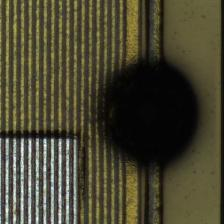PARTICLE: (92, 55, 208, 171)
